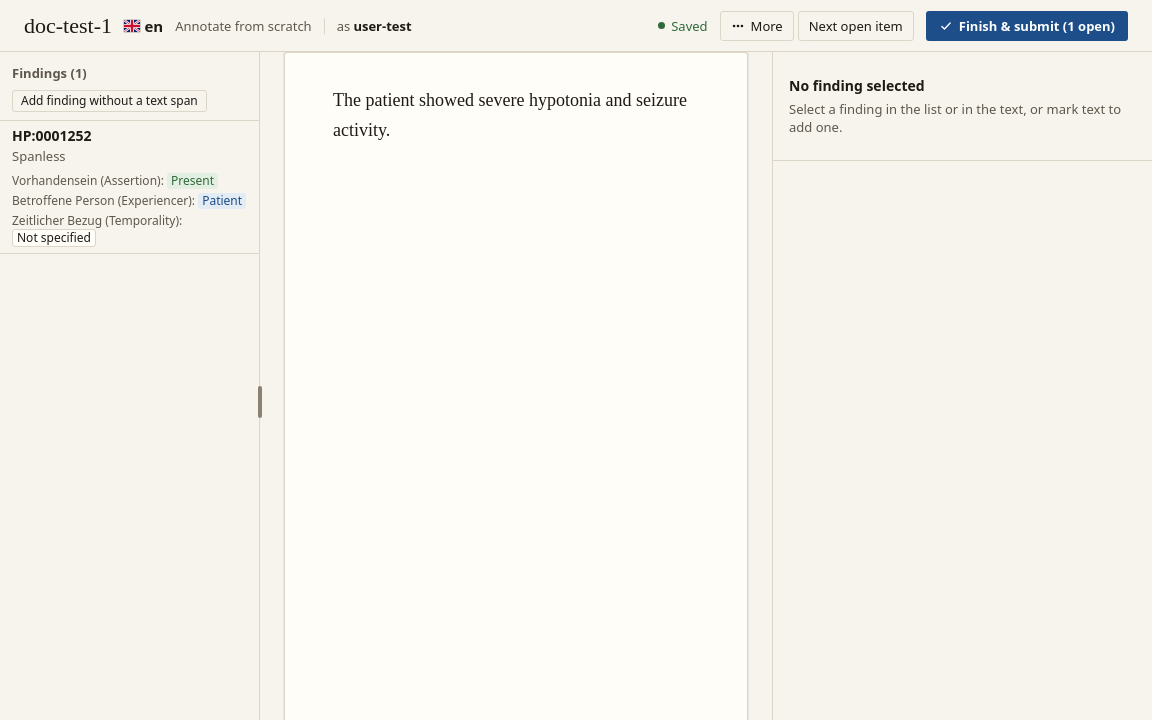
Test case: CaseScreen integration › submit with unconfirmed values › the header counts an empty value as open, like the dialog
The image size is (1152, 720).
Click the button "Finish & submit (1 open)".
click(1027, 26)  # box [926,10,1128,40]
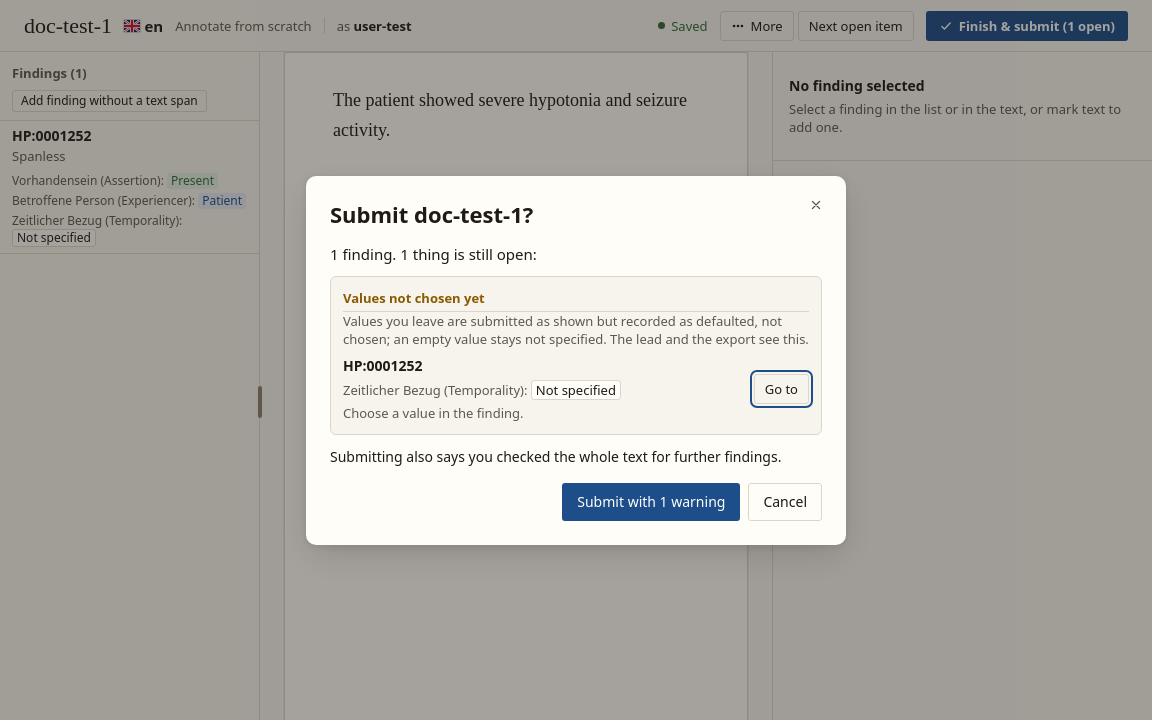
Expected: the text with class "submit-summary" reads "1 finding. 1 thing is still open:", [330,244,537,264]
